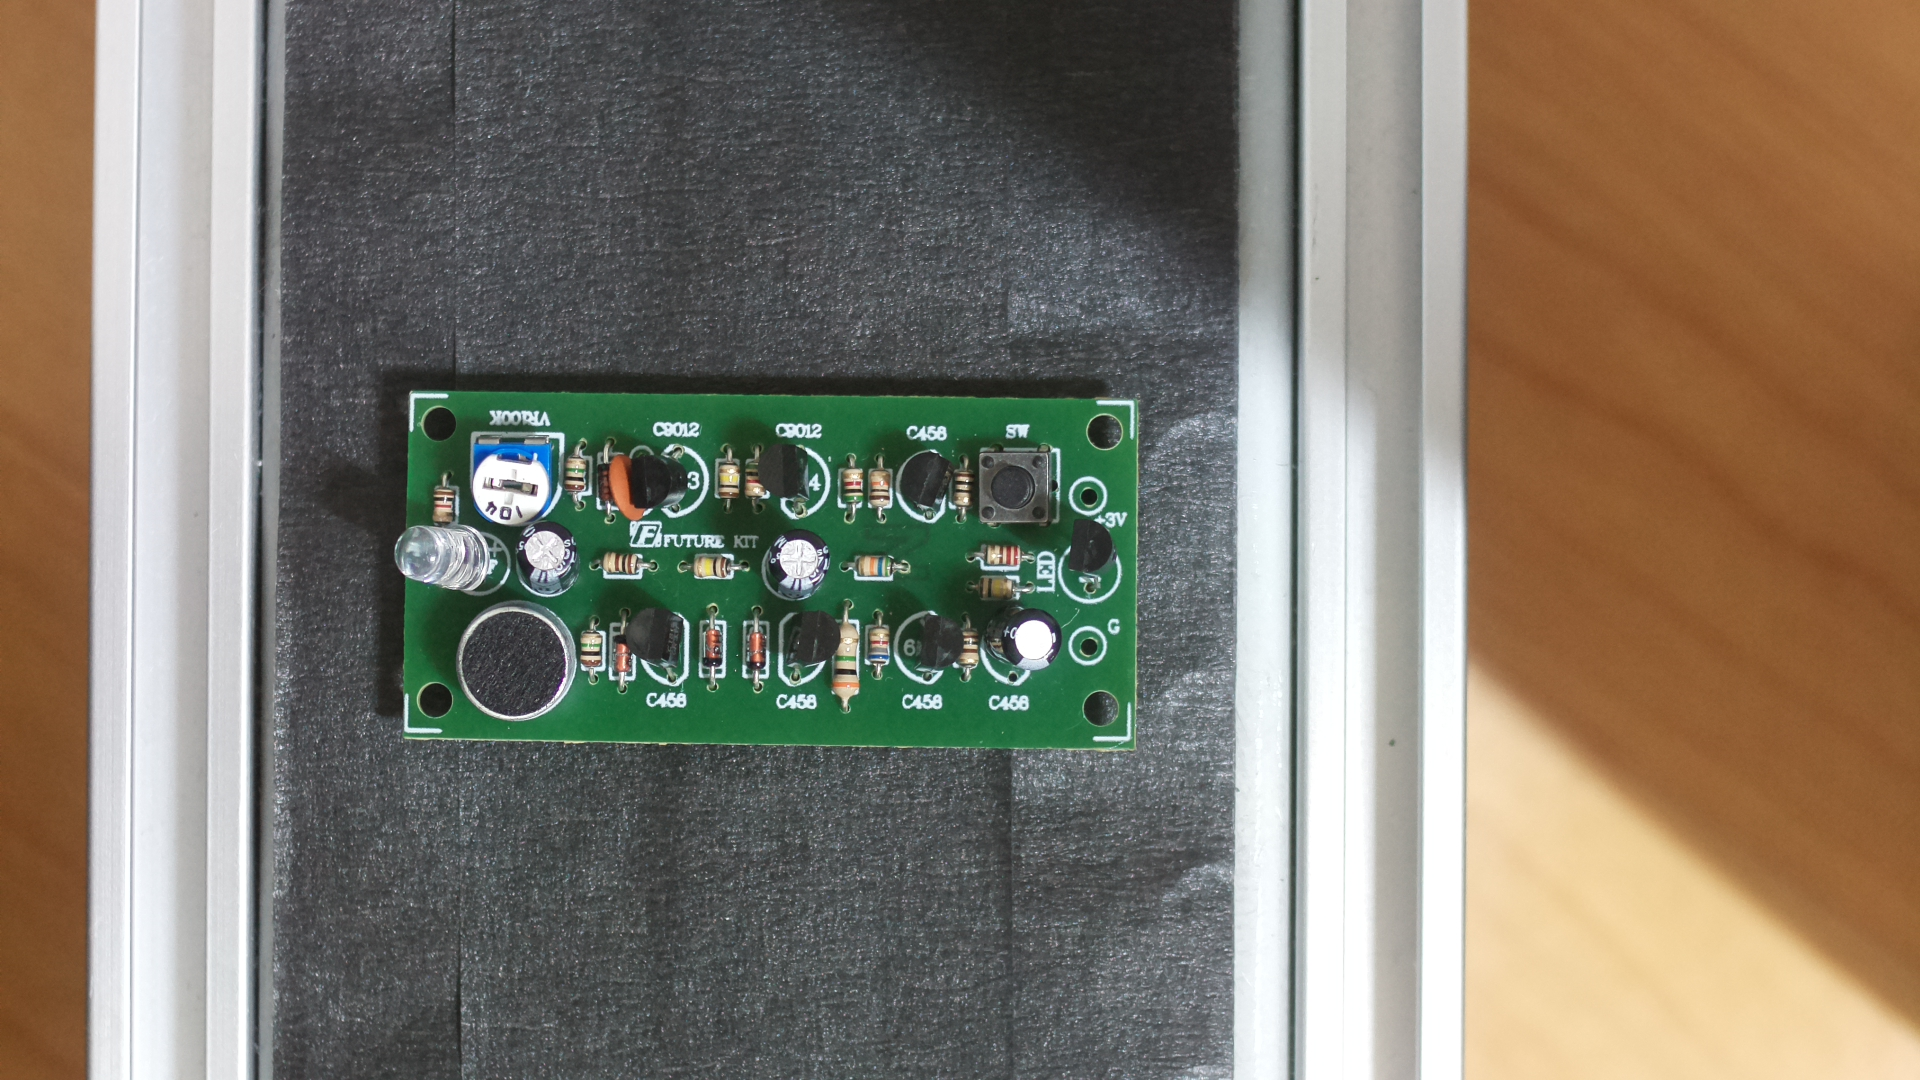A_Misordered: (363, 368, 1163, 779)
